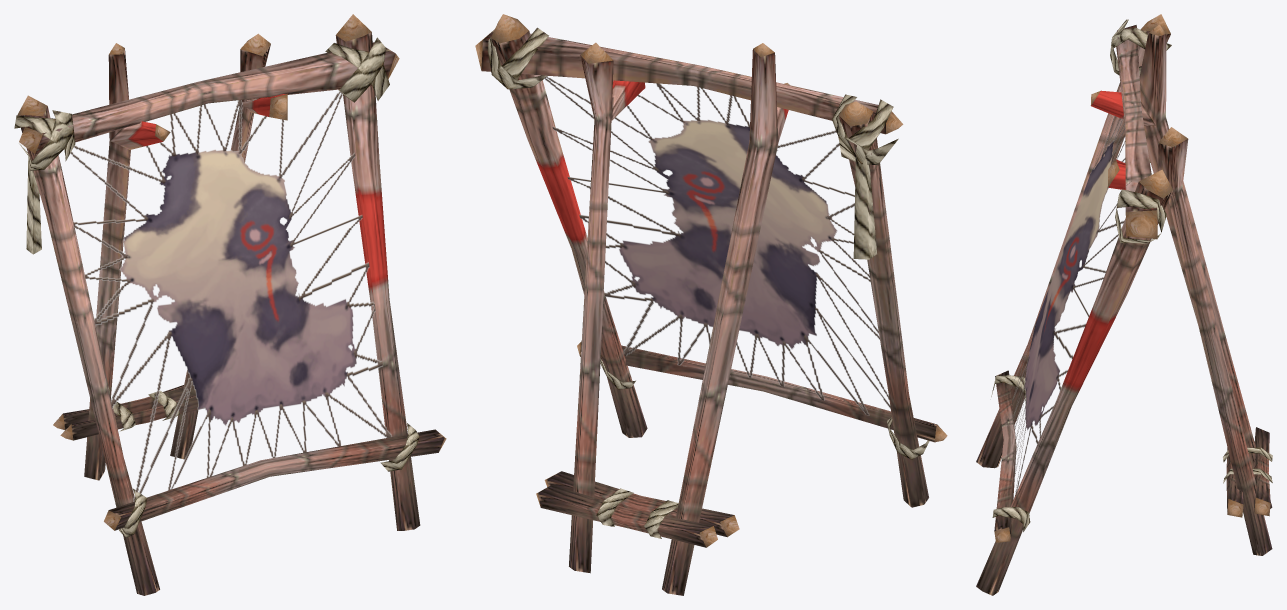
The picture shows the model from 3 angles, left to right: view 1: azimuth 30°, elevation 25°; view 2: azimuth 150°, elevation 25°; view 3: azimuth 270°, elevation 25°; orthographic projection. The views are drawn at different scales.
Visible parts, largest first — view 1: pPlane1, pCylinder2, pCylinder1, pCylinder5, pCylinder9, pCylinder3, pCylinder8, knot1, knot, pCylinder11, pCube1, pCylinder10 (+2 smaller); view 2: pPlane2, pCylinder9, pCylinder8, pCylinder2, pCylinder5, pCylinder1, pCylinder3, pCylinder10, knot, pCylinder11, pCube1, knot1; view 3: pCylinder2, pCylinder8, pPlane1, pCylinder9, pCylinder5, pCylinder1, pCylinder3, pCylinder10, knot1, knot, pCylinder11, knot3.
Part boxes in pixels (<box>): pPlane1: <box>70,91,391,501</box>; pCylinder2: <box>335,14,420,530</box>; pCylinder1: <box>17,95,159,595</box>; pCylinder5: <box>19,42,399,154</box>; pCylinder9: <box>84,43,170,480</box>; pCylinder3: <box>104,429,446,530</box>; pCylinder8: <box>170,33,287,459</box>; knot1: <box>325,37,389,102</box>; knot: <box>14,110,75,170</box>; pCylinder11: <box>60,396,204,440</box>; pCube1: <box>26,156,41,254</box>; pCylinder10: <box>53,385,183,429</box>; pPlane2: <box>540,75,890,415</box>; pCylinder9: <box>662,43,789,595</box>; pCylinder8: <box>569,42,645,573</box>; pCylinder2: <box>491,14,647,437</box>; pCylinder5: <box>475,29,903,134</box>; pCylinder1: <box>839,101,928,507</box>; pCylinder3: <box>577,341,947,442</box>; pCylinder10: <box>536,484,717,547</box>; knot: <box>832,94,898,165</box>; pCylinder11: <box>544,471,739,537</box>; pCube1: <box>853,156,876,259</box>; knot1: <box>487,27,548,89</box>; pCylinder2: <box>976,169,1172,595</box>; pCylinder8: <box>1108,127,1272,555</box>; pPlane1: <box>1011,115,1125,495</box>; pCylinder9: <box>1090,24,1272,508</box>; pCylinder5: <box>1116,25,1157,239</box>; pCylinder1: <box>976,14,1170,468</box>; pCylinder3: <box>994,370,1016,542</box>; pCylinder10: <box>1254,427,1270,516</box>; knot1: <box>1115,181,1166,243</box>; knot: <box>1110,19,1171,75</box>; pCylinder11: <box>1226,447,1243,517</box>; knot3: <box>992,507,1030,531</box>.
Size of the model in its own units: 133 by 157 by 89.
17 materials, 17 textured.
